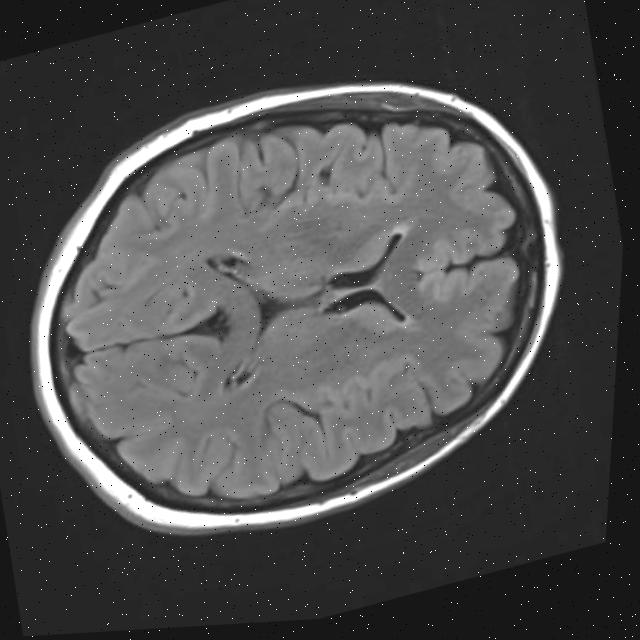NoTumor: (0, 7, 622, 595)
